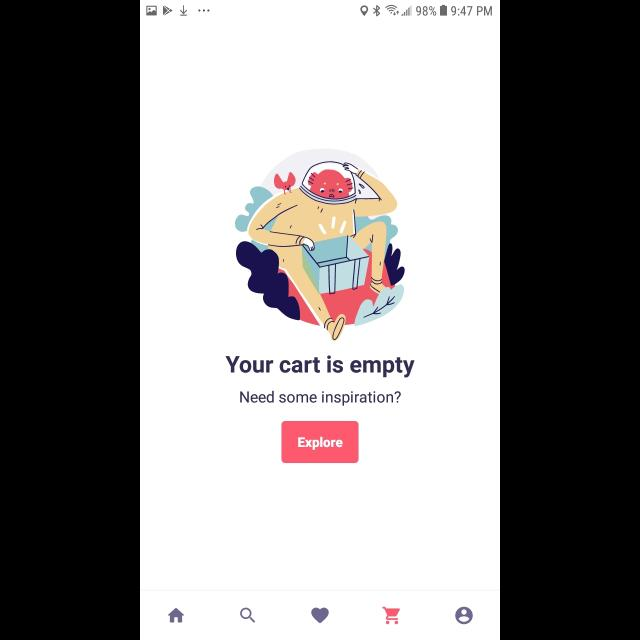icon: (383, 606, 401, 624), (455, 606, 473, 624), (311, 607, 329, 623), (169, 608, 185, 624), (240, 608, 256, 622)
image: (235, 148, 405, 342)
text: (226, 354, 414, 378), (240, 392, 402, 406)
textbutton: (282, 421, 358, 463)
uppertaskbar: (140, 1, 500, 18)
